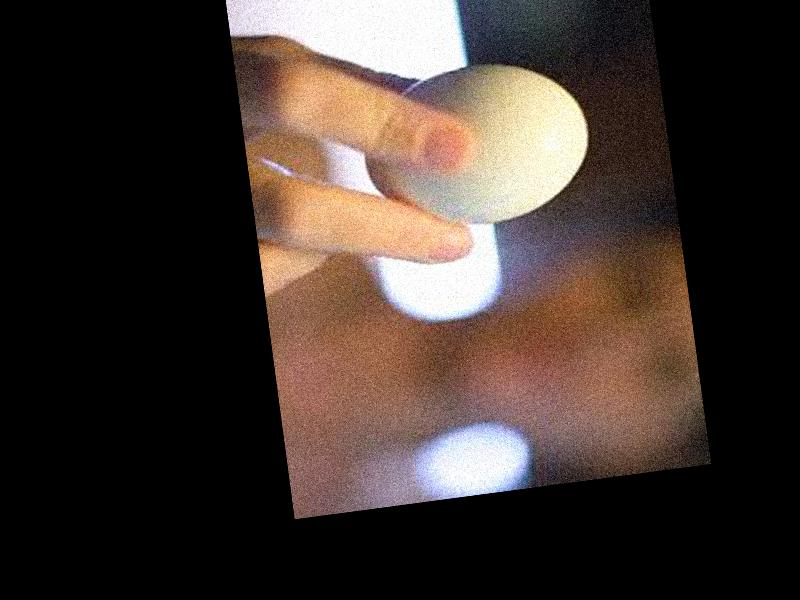Eggs: (354, 54, 598, 241)
